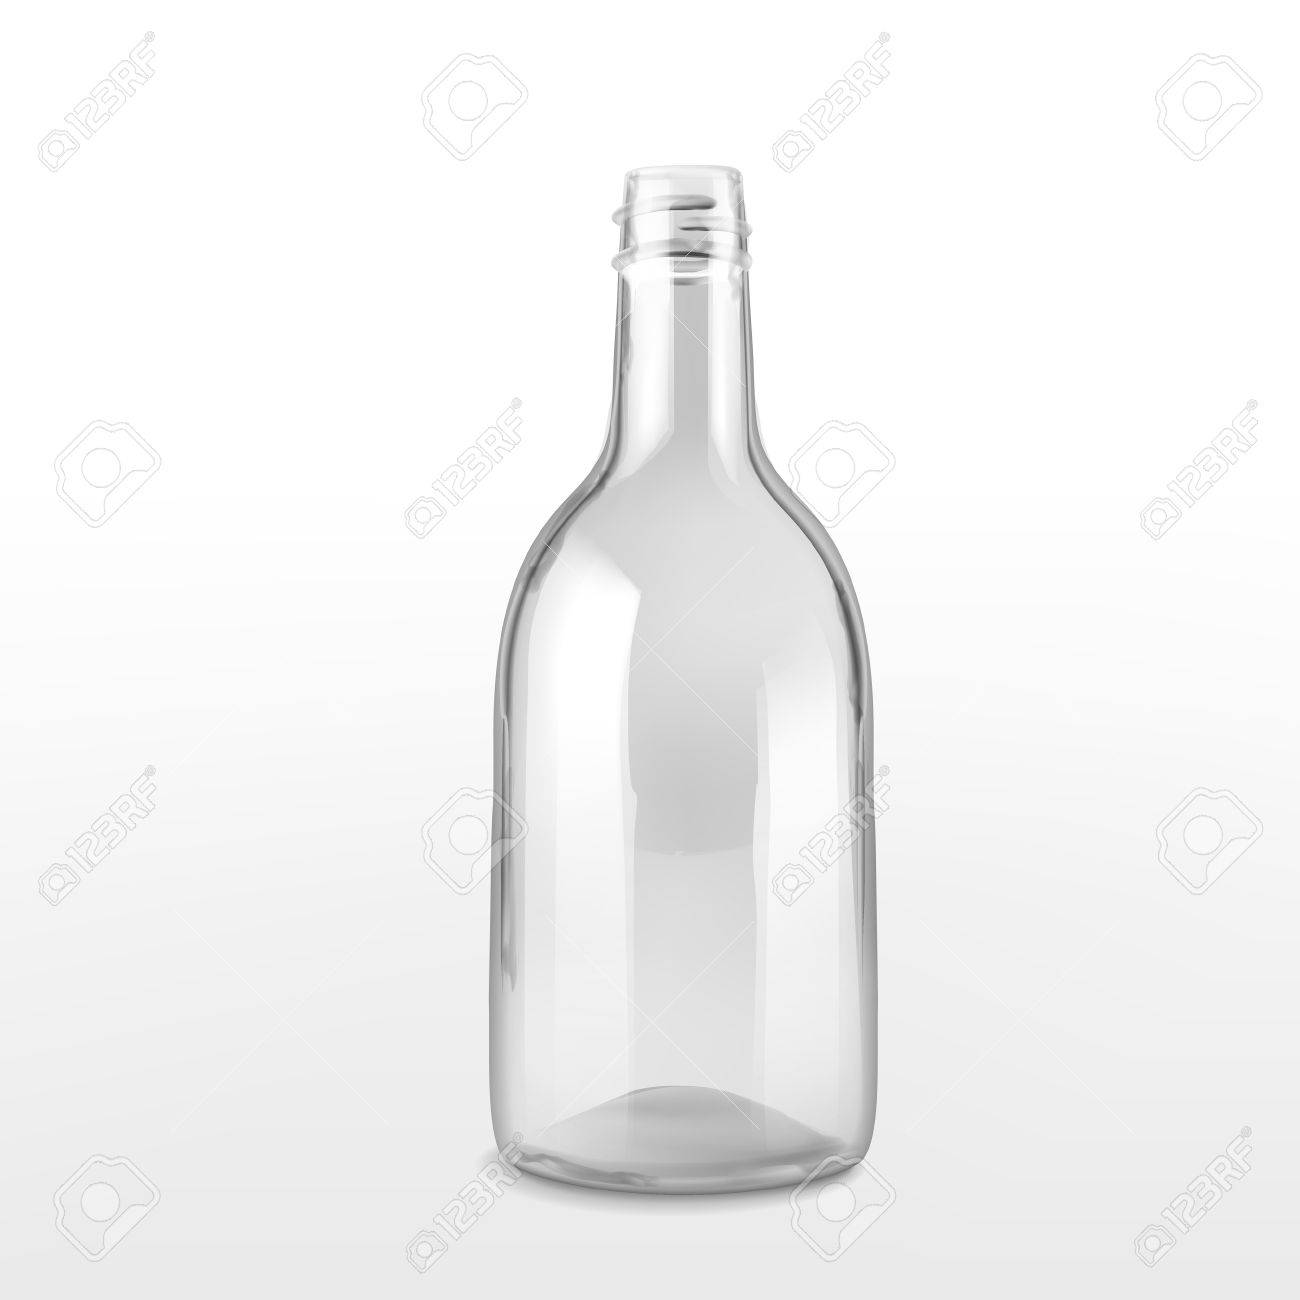glass_bottle: (483, 155, 885, 1211)
